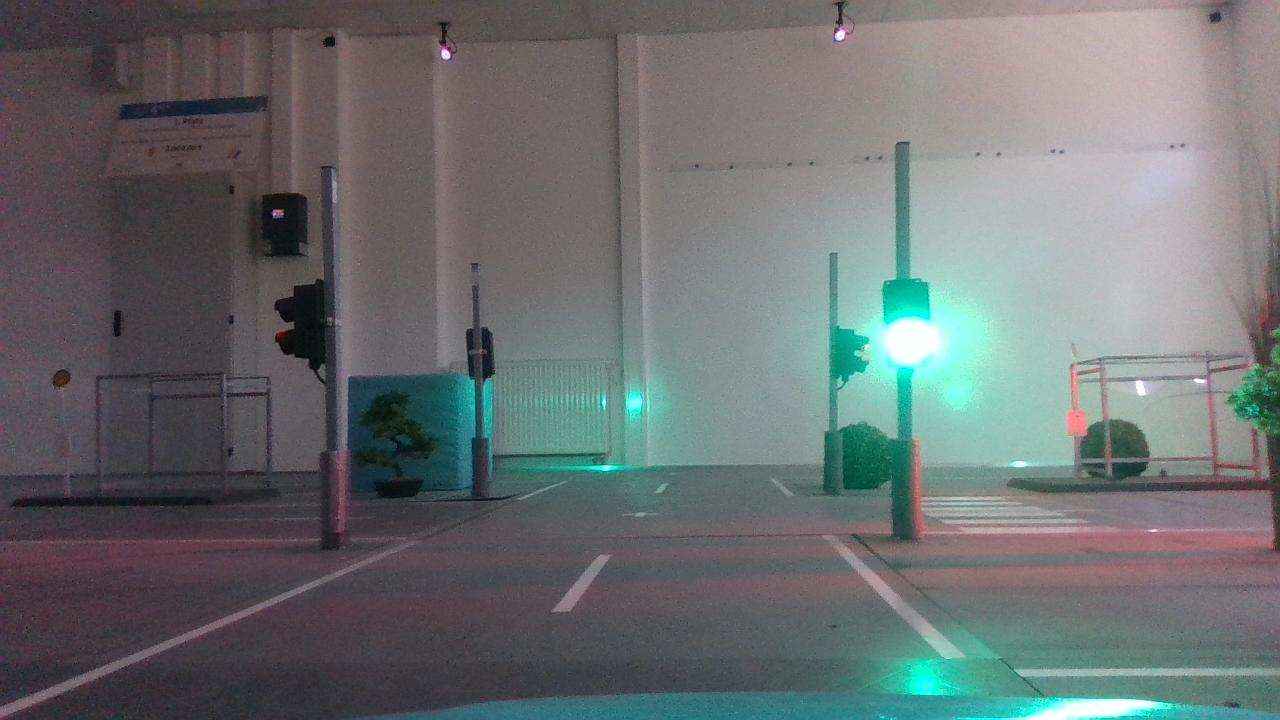traffic_light_green: (878, 266, 940, 378)
